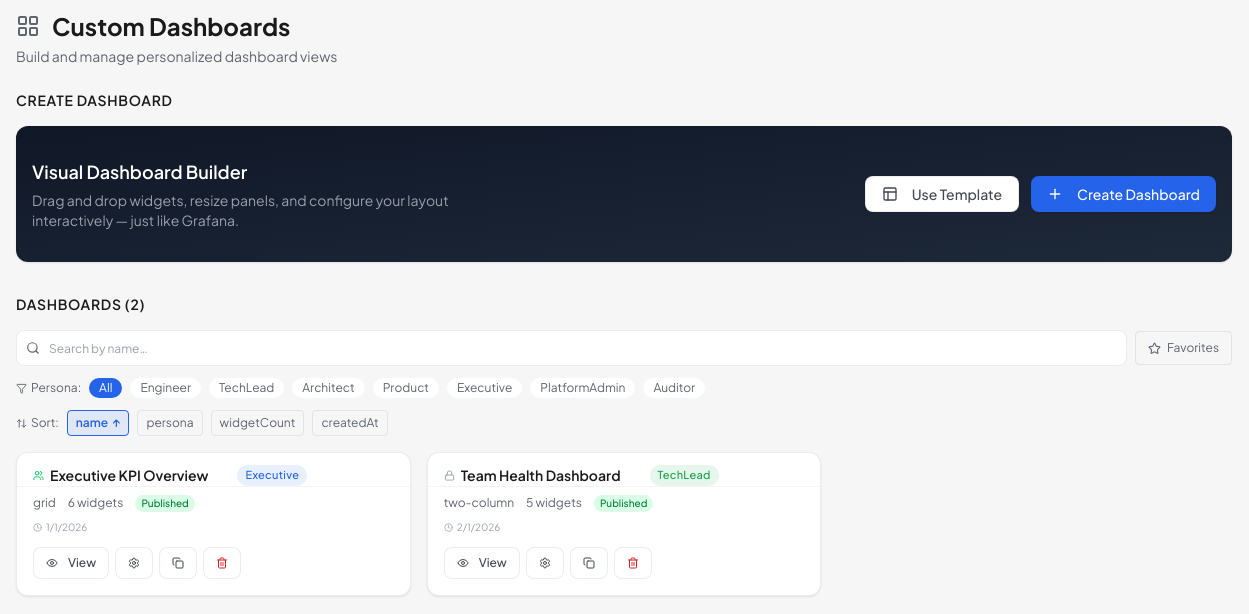
it: CustomDashboardsPage › sort button toggles direction when clicked twice
Click the button "name ↑" at (98, 423), box [67,410,130,436]
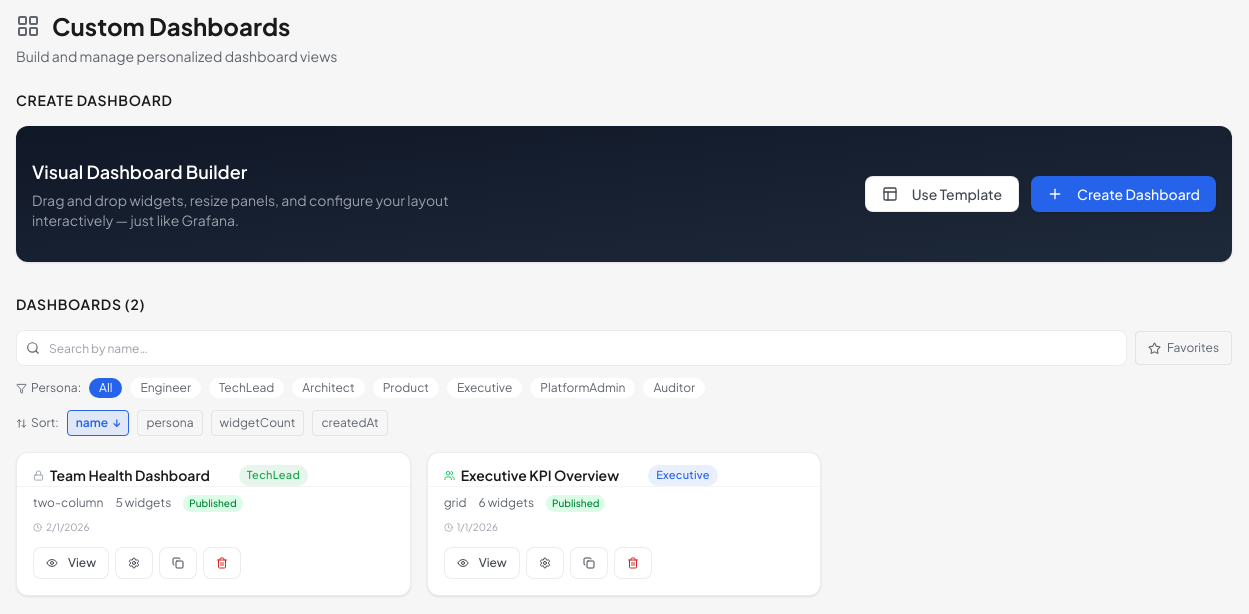
Result: the text "↓" is shown at [110,415,120,430]
